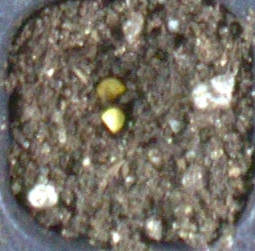pepper seed: (38, 39, 166, 174), (30, 25, 157, 129)
